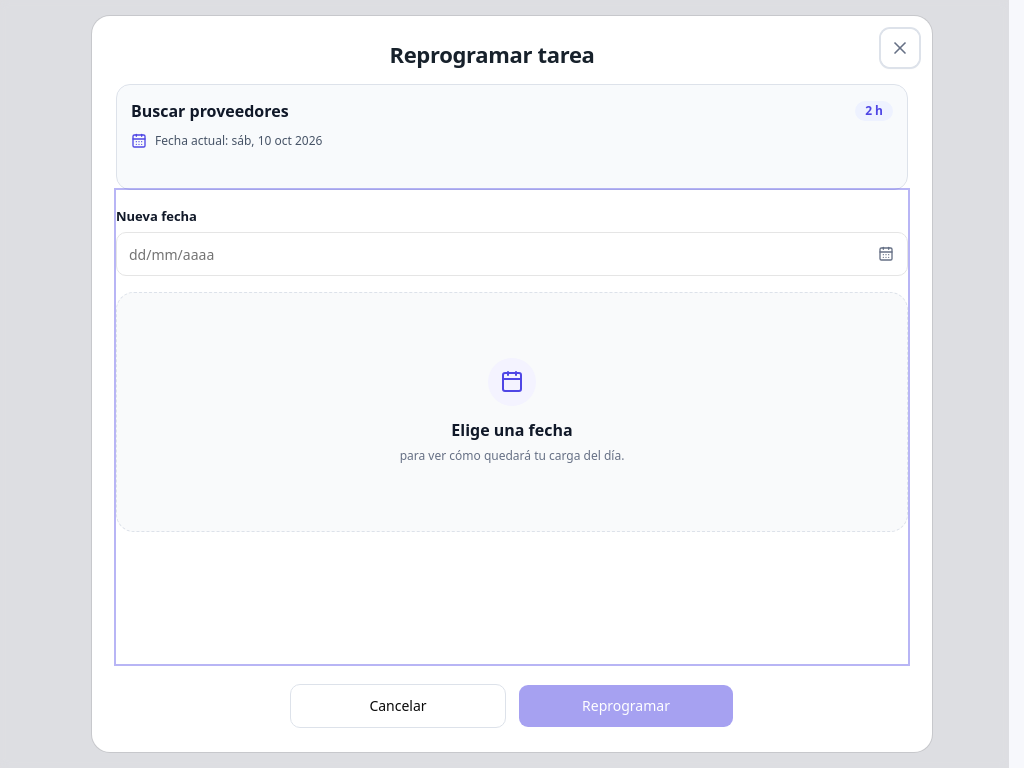
it: RescheduleTaskDialog › guarda una fecha sin conflicto y confirma la carga
Type "2026-10-13" into the field labelled "Nueva fecha" at (512, 254), box [116,232,908,276]
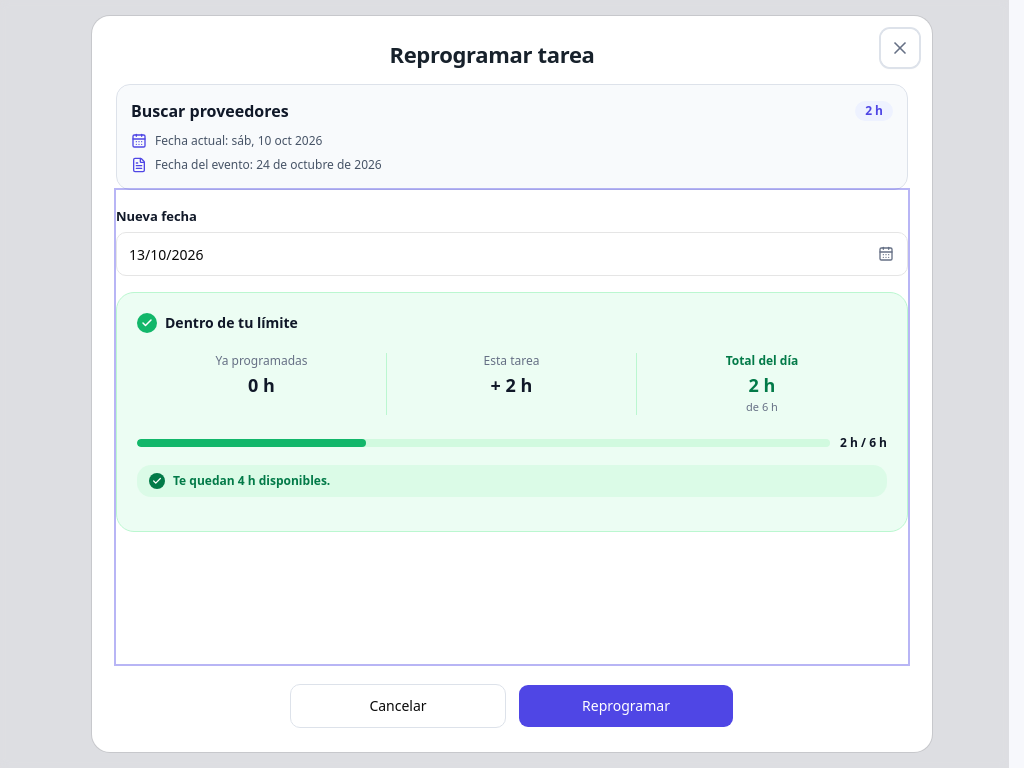
Click the button "Reprogramar" at (626, 706), box [518,684,734,728]
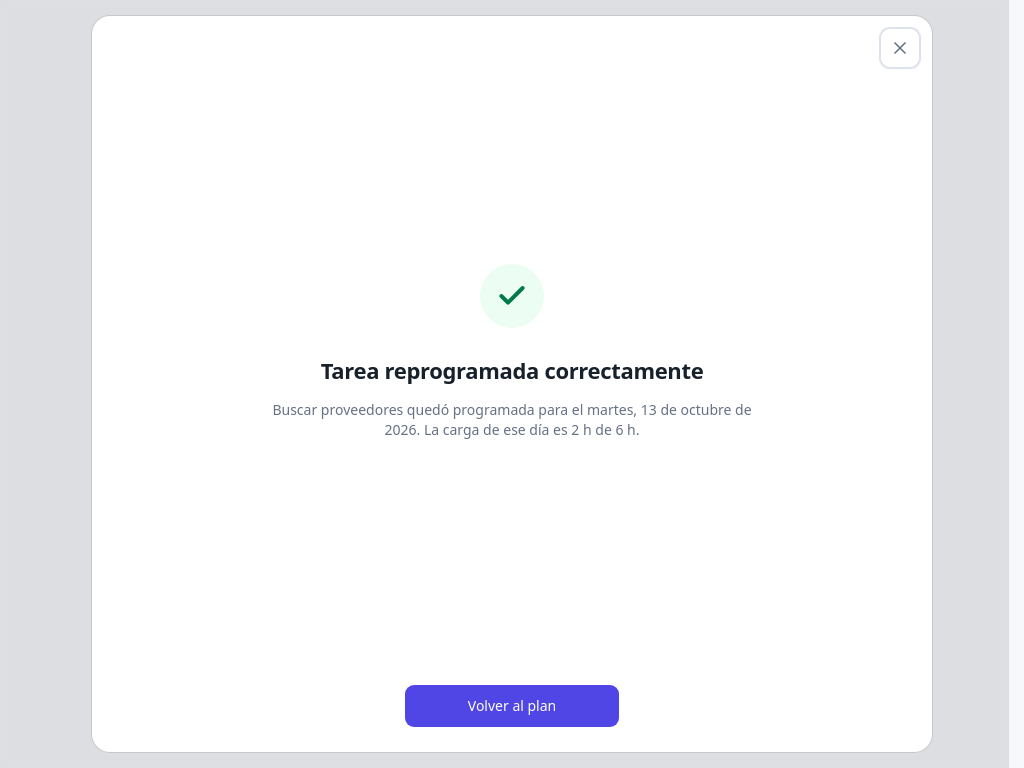
Check: the heading "Tarea reprogramada correctamente" is shown, box [321,356,703,384]
